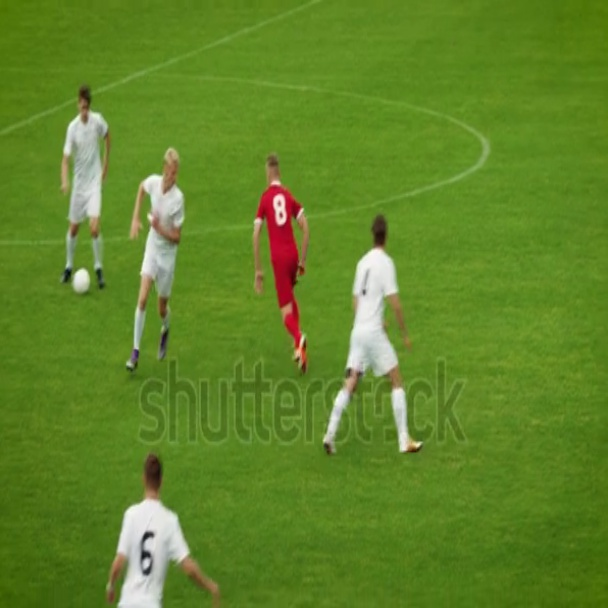ball: (73, 266, 90, 295)
